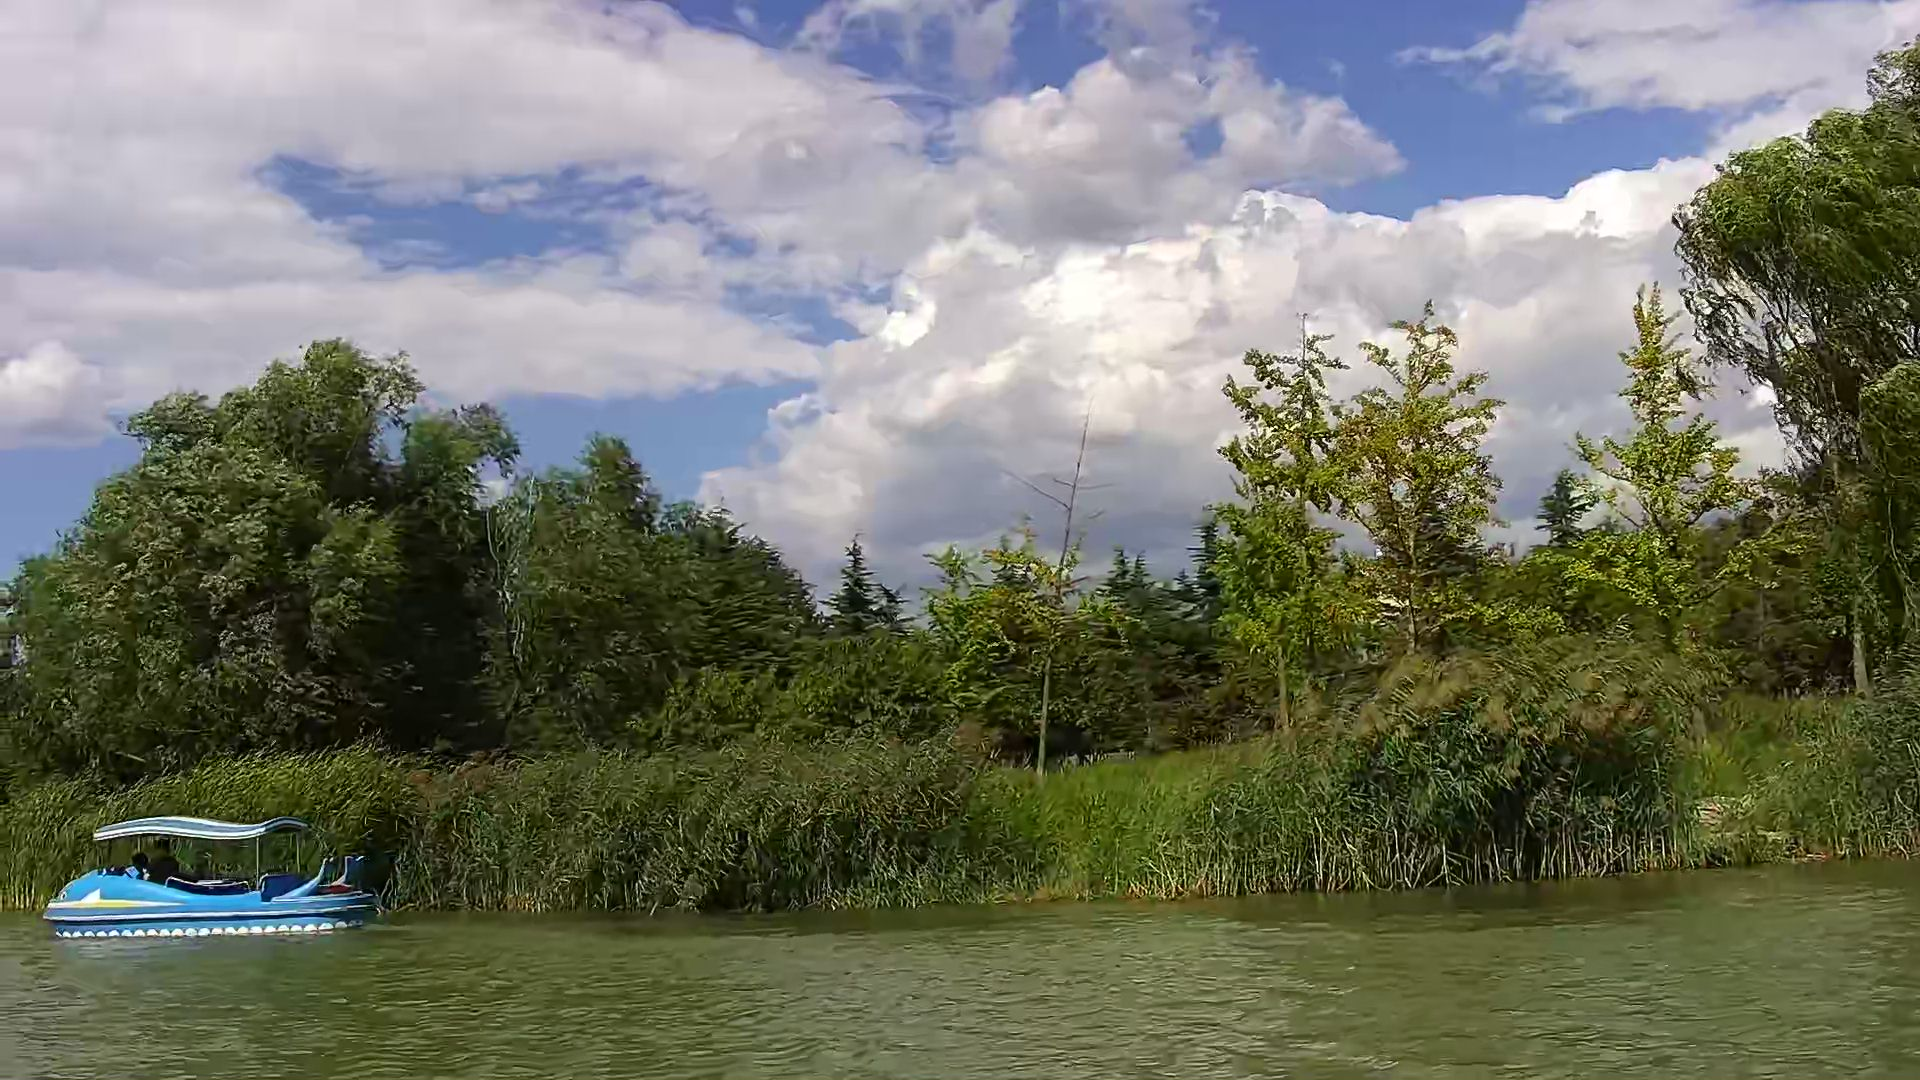boat: (42, 818, 378, 942)
